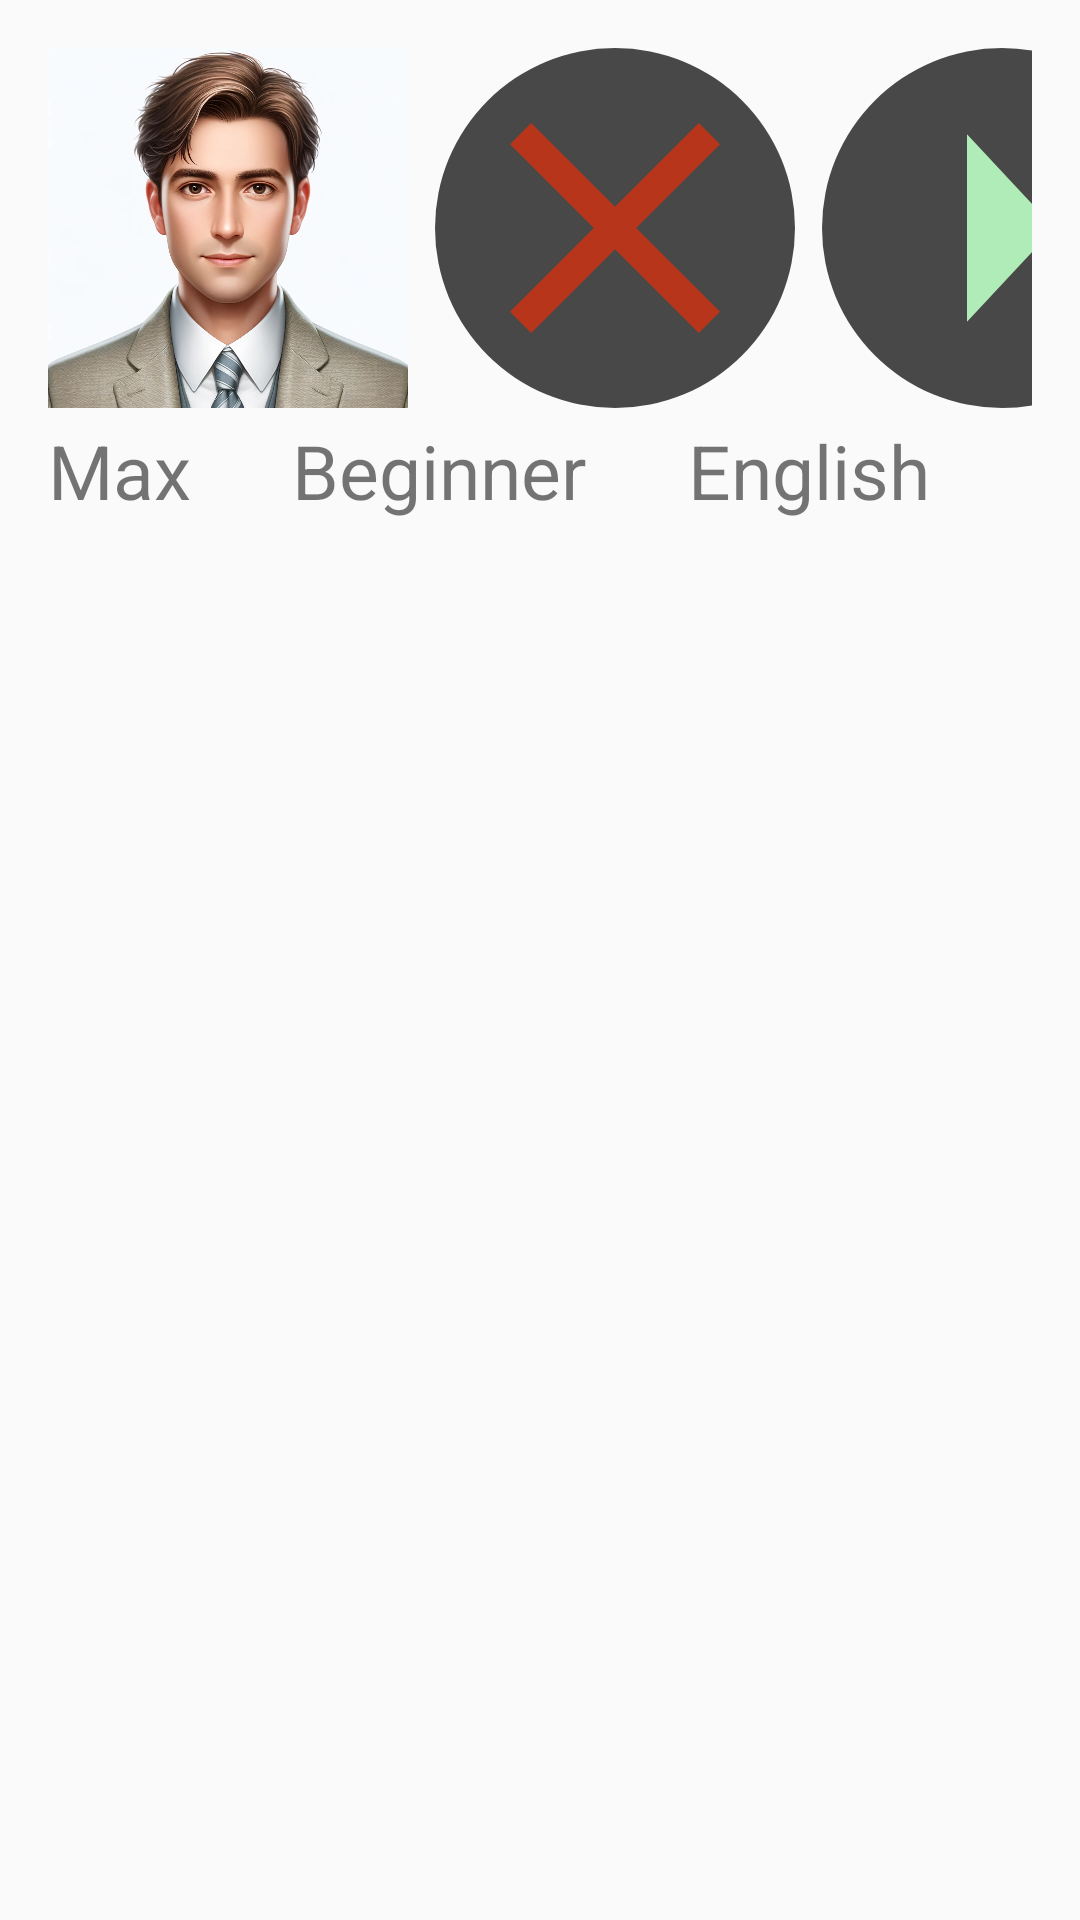

Point at icon controls on the screen. Image size 1080x1920, points as point (x, y).
close: point (615, 228)
erkek: point (228, 229)
